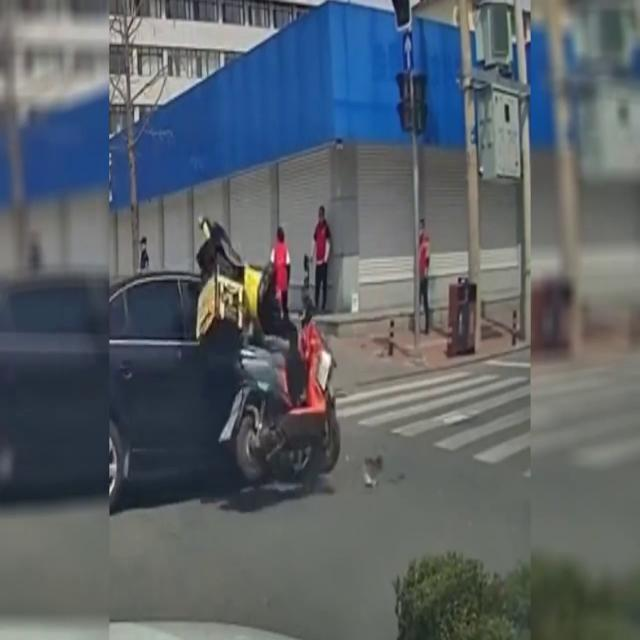accident: (112, 268, 338, 500)
